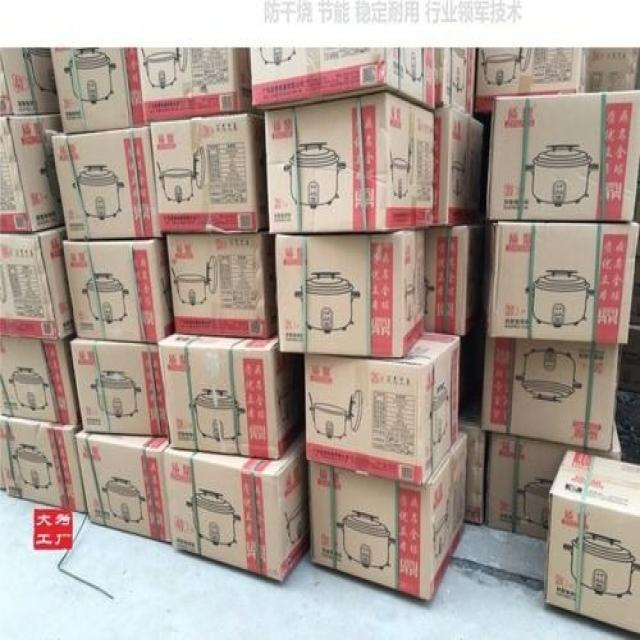box: (308, 432, 467, 602), (304, 330, 460, 486), (264, 91, 434, 234), (164, 431, 309, 582), (486, 90, 639, 222), (275, 230, 425, 357), (157, 330, 304, 458), (485, 222, 639, 344), (545, 450, 639, 634), (486, 422, 622, 542), (482, 333, 619, 451), (151, 114, 269, 234), (51, 127, 166, 239), (250, 48, 436, 116), (166, 232, 279, 340), (61, 239, 175, 344), (75, 430, 171, 543), (70, 338, 169, 436), (136, 48, 262, 122), (0, 415, 87, 514), (50, 48, 150, 134), (0, 226, 76, 339), (0, 114, 65, 234), (1, 333, 82, 424), (474, 48, 585, 113), (424, 225, 482, 337), (434, 106, 483, 226), (0, 48, 59, 115), (460, 414, 487, 524), (437, 48, 477, 118), (584, 47, 639, 93)
